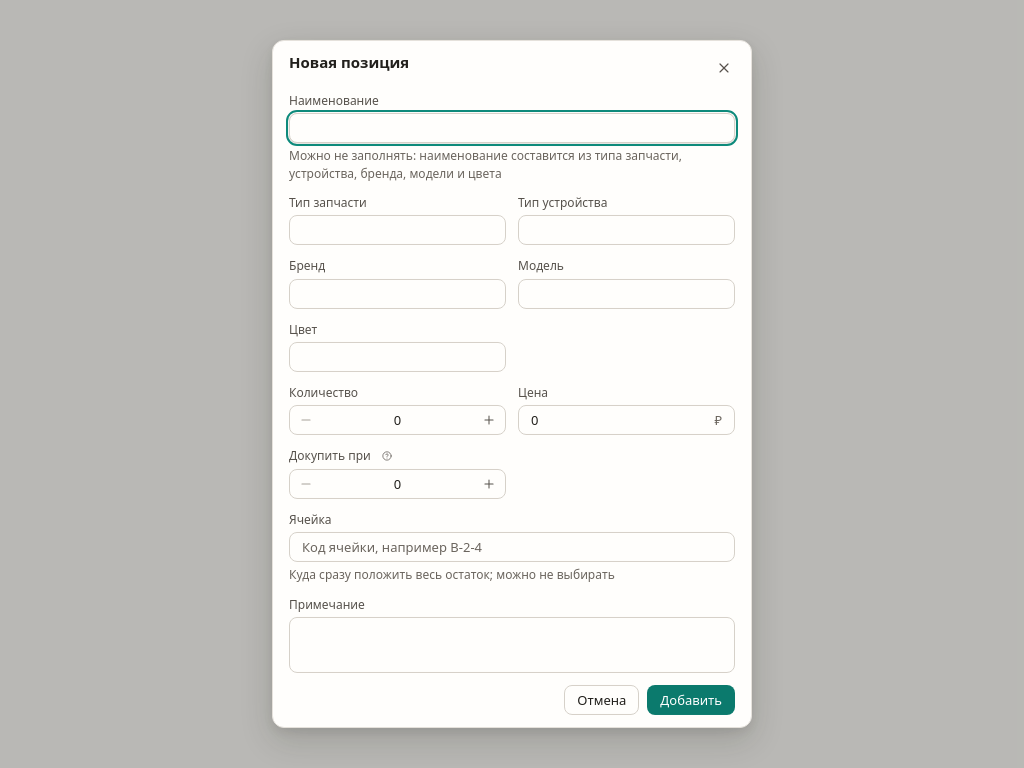
Test: StockAddDialog › the cell › tells no_such_place under the field
In the field labelled "Модель": [626, 294] box [531,280,722,308], type "M-1"
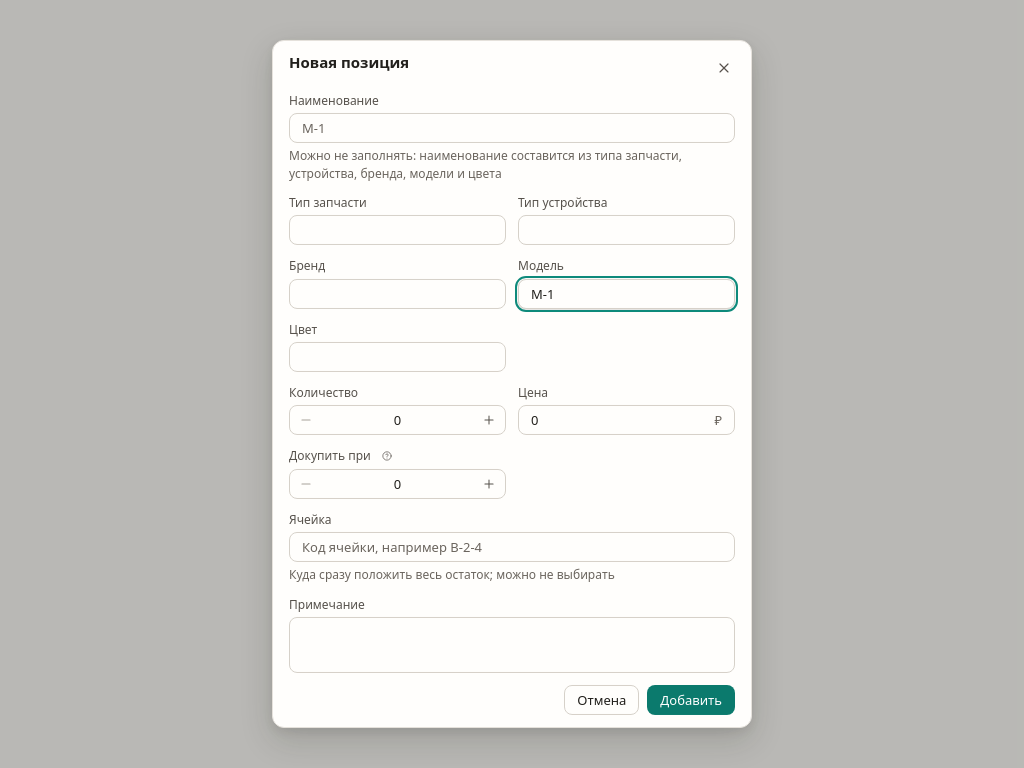
In the dropdown labelled "Ячейка": [512, 547] box [302,533,722,561], type "A-1"
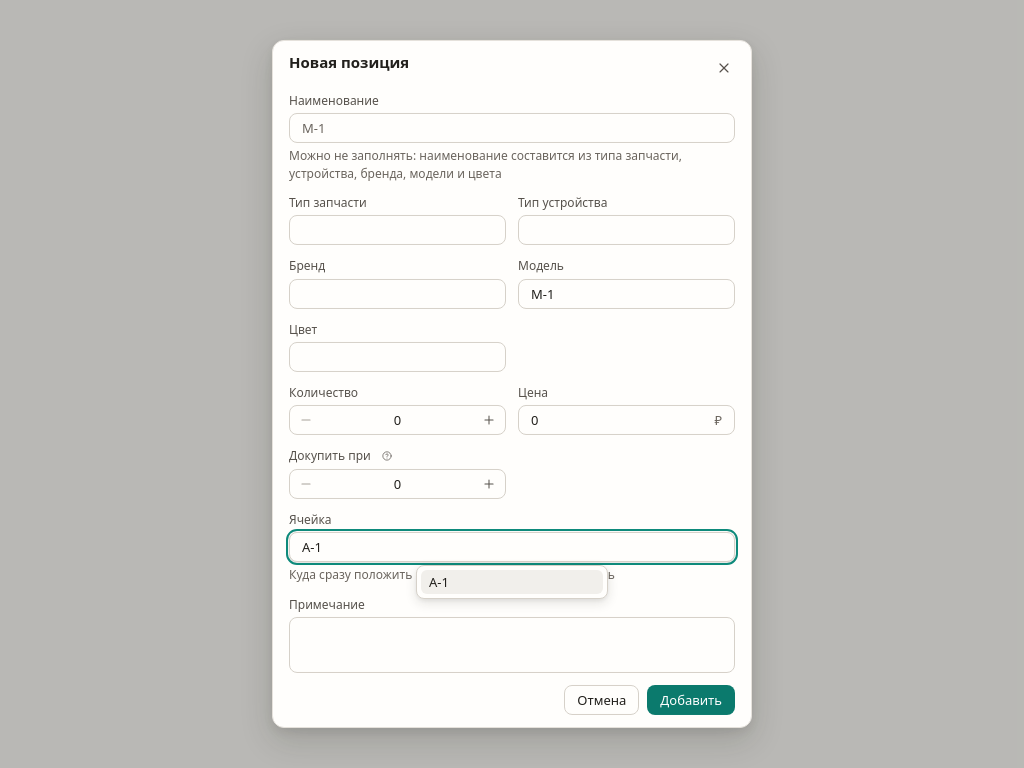
Click the option "A-1": [512, 582] box [421,570,603,594]
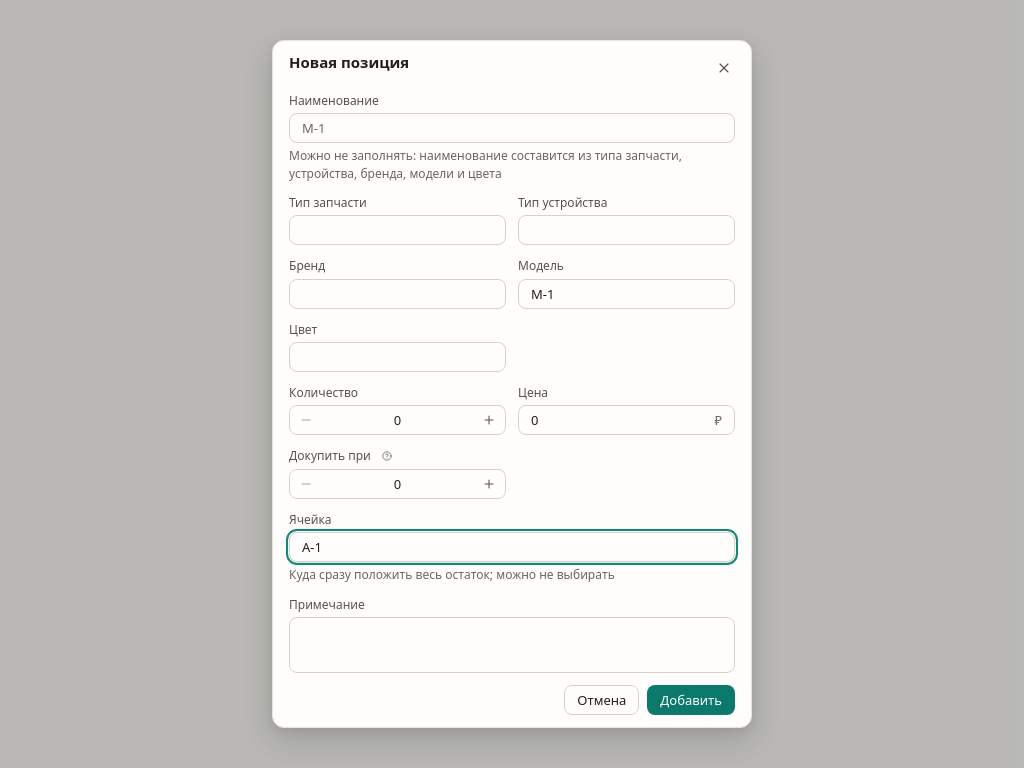
Click the button "Добавить": [691, 700] box [647,685,735,715]
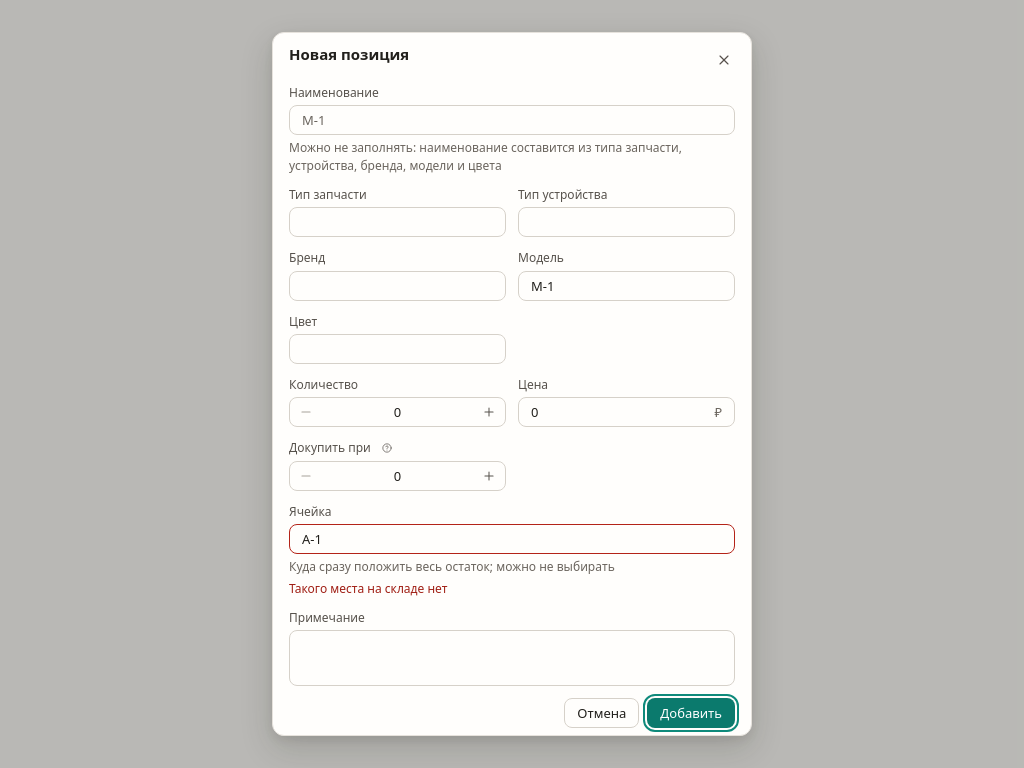
Expected: the text "Такого места на складе нет" is shown, [289,580,448,597]
